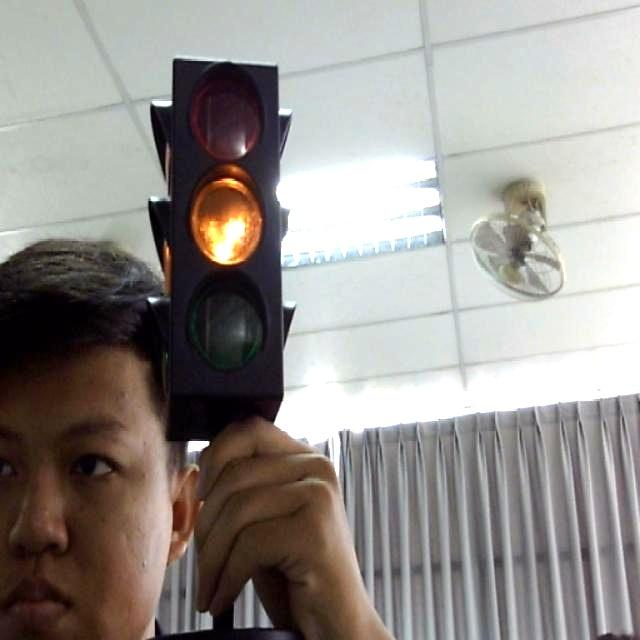Yellow: (139, 43, 305, 433)
